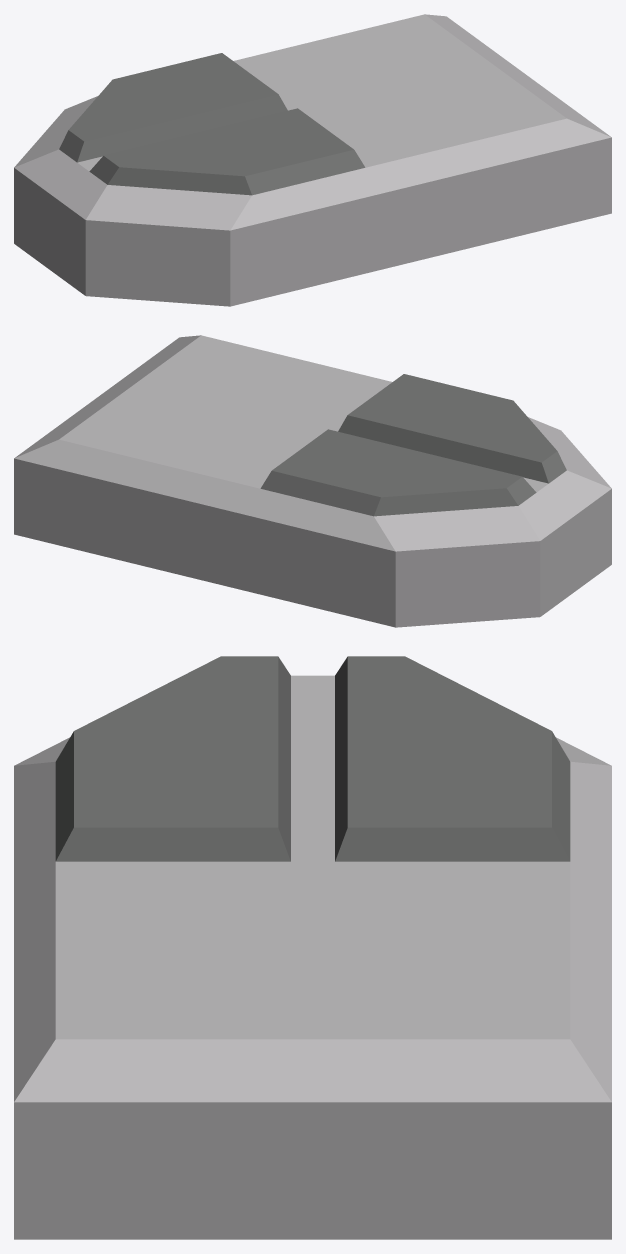
Rendered from SM_Mouse_01.glb.
The picture shows the model from 3 angles, top to bottom: view 1: azimuth 30°, elevation 25°; view 2: azimuth 150°, elevation 25°; view 3: azimuth 270°, elevation 25°; orthographic projection. The views are drawn at different scales.
Visible parts, largest first — view 1: SM_Mouse_01; view 2: SM_Mouse_01; view 3: SM_Mouse_01.
Boxes of the visible parts, x1,y1,x2,y2 form: SM_Mouse_01: (14, 14, 611, 306); SM_Mouse_01: (14, 335, 611, 627); SM_Mouse_01: (14, 656, 611, 1239).
Bounding box in the file's own units: 0.1497 × 0.033 × 0.0895.
Materials: 1 (1 with a texture image).
